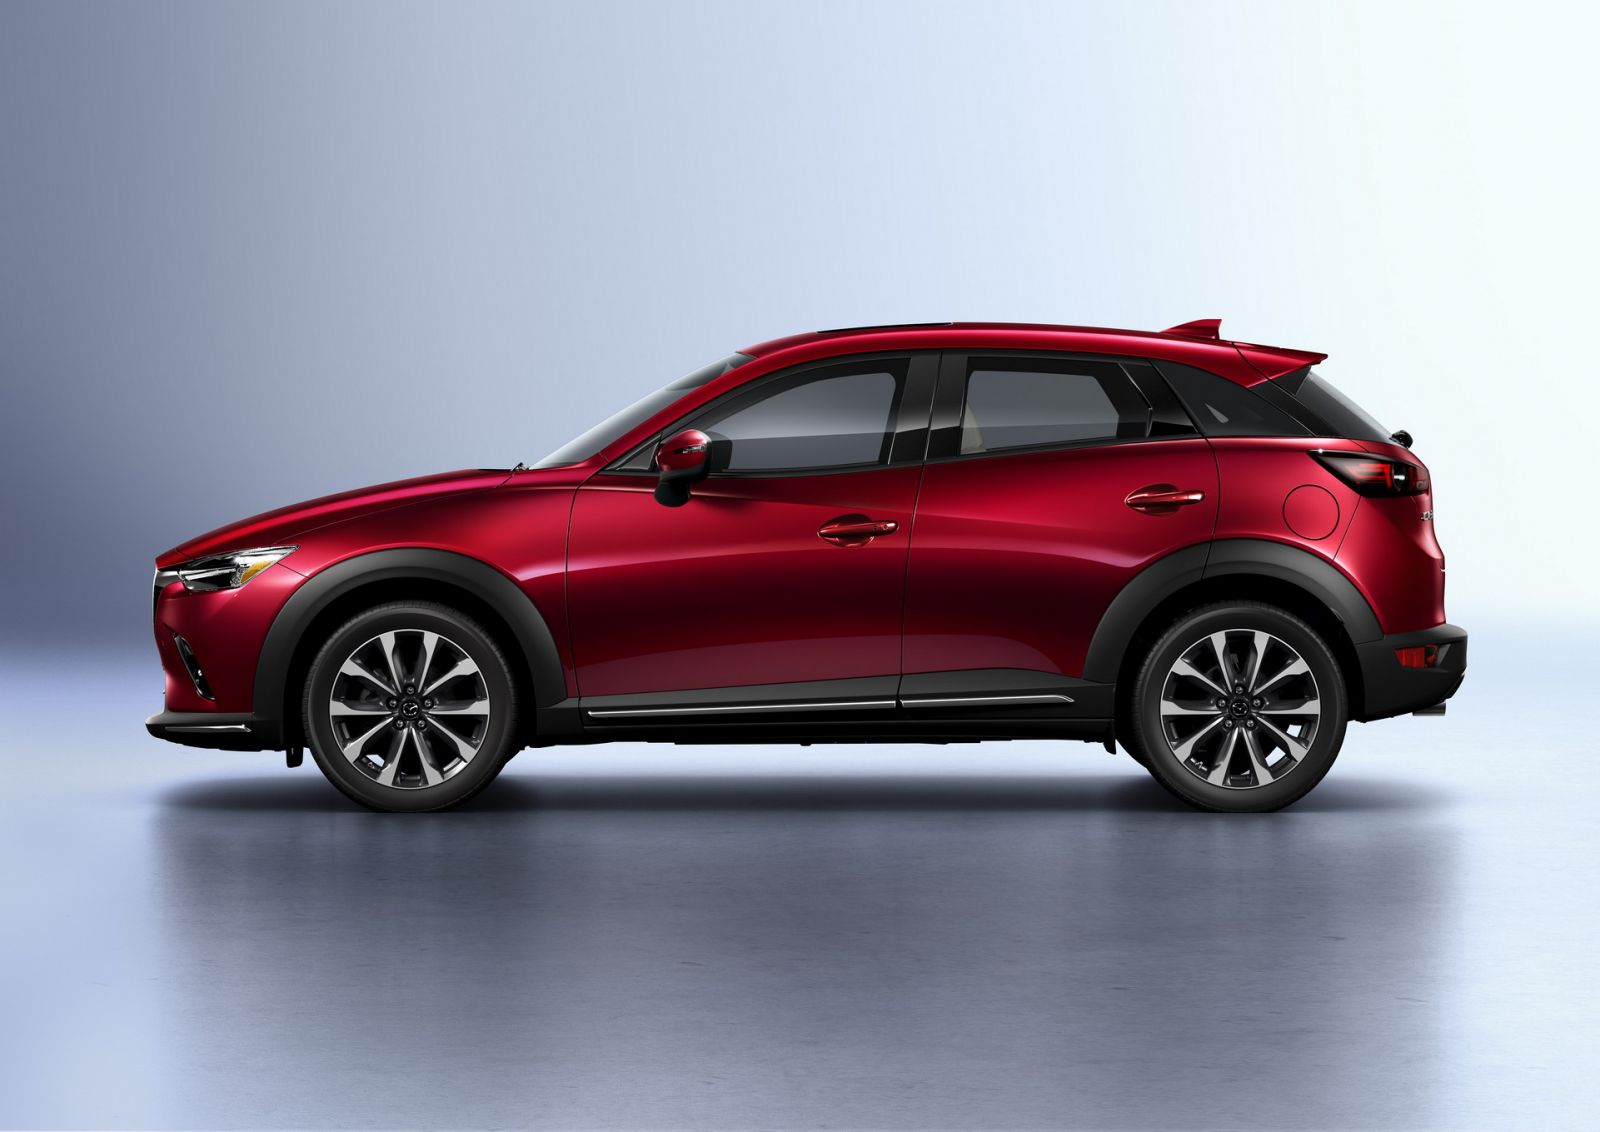pickup: (145, 316, 1471, 816)
